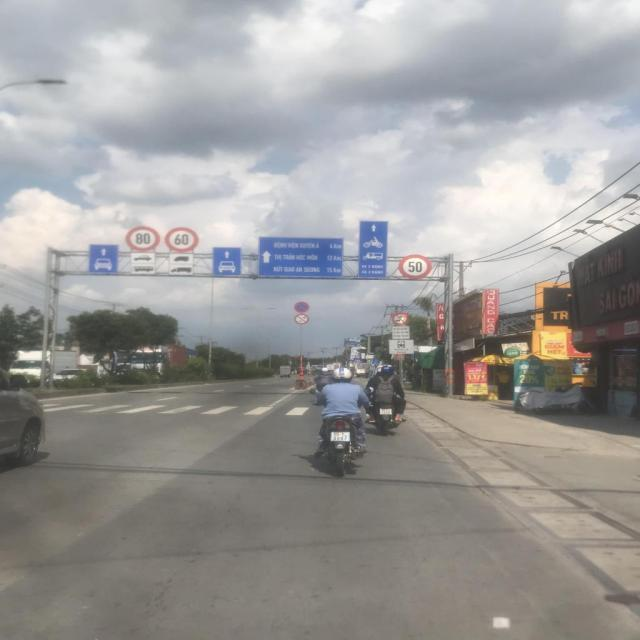cam_dung_xe_va_do_xe: (294, 302, 309, 313)
cam_o_to_tai_va_xe_khach: (391, 312, 409, 326)
cam_xe_2_banh_va_xe_3_banh_co_dong_co: (293, 314, 309, 325)
duong_cho_xe_o_to: (89, 245, 119, 273), (213, 248, 242, 276)
khac: (257, 237, 343, 277), (358, 222, 388, 278), (389, 340, 414, 355), (168, 264, 194, 276), (130, 252, 154, 263), (132, 264, 156, 274), (169, 254, 193, 264), (391, 327, 410, 339)
toc_do_toi_da_50: (398, 254, 432, 280)
toc_do_toi_da_60: (165, 227, 199, 252)
toc_do_toi_da_80: (126, 227, 161, 251)
